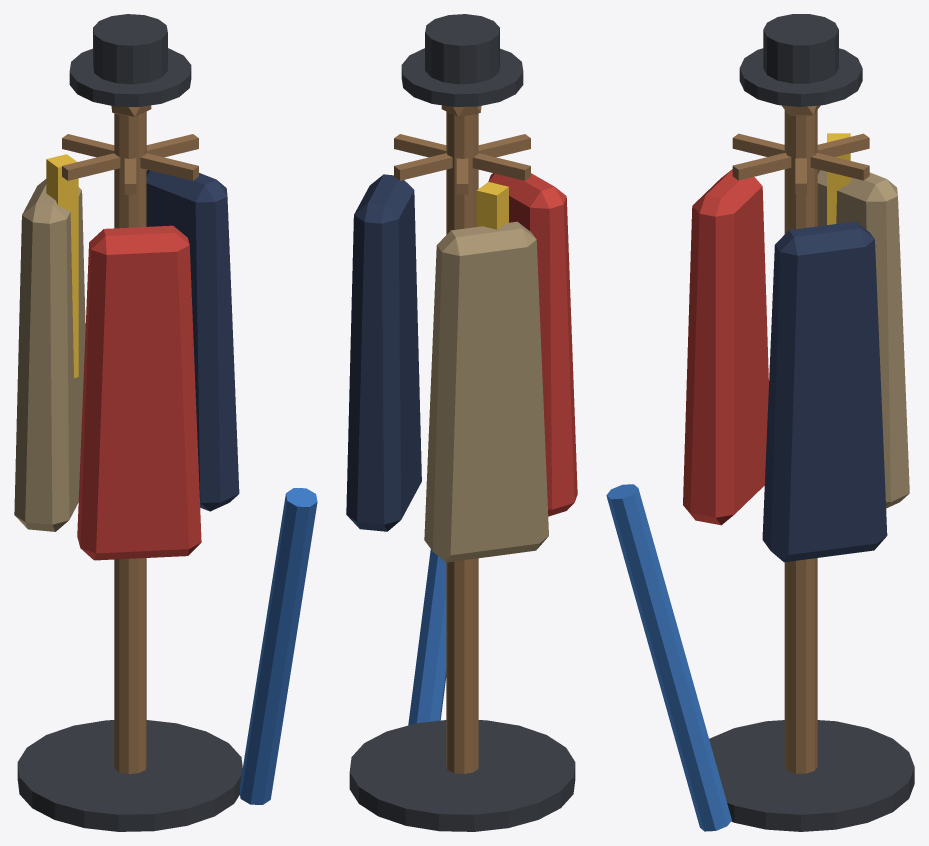
The model's file is coat_stand.glb.
3 views of the same model, side by side, from view 1: azimuth 30°, elevation 25°; view 2: azimuth 150°, elevation 25°; view 3: azimuth 270°, elevation 25° (orthographic).
Parts seen in each view (by area): view 1: coat_stand_mesh; view 2: coat_stand_mesh; view 3: coat_stand_mesh.
Boxes of the visible parts, x1=… form: coat_stand_mesh: x1=14, y1=14, x2=317, y2=831; coat_stand_mesh: x1=346, y1=14, x2=577, y2=831; coat_stand_mesh: x1=606, y1=14, x2=914, y2=831.
Bounding box in the file's own units: 0.4885 × 1.77 × 0.6518.
